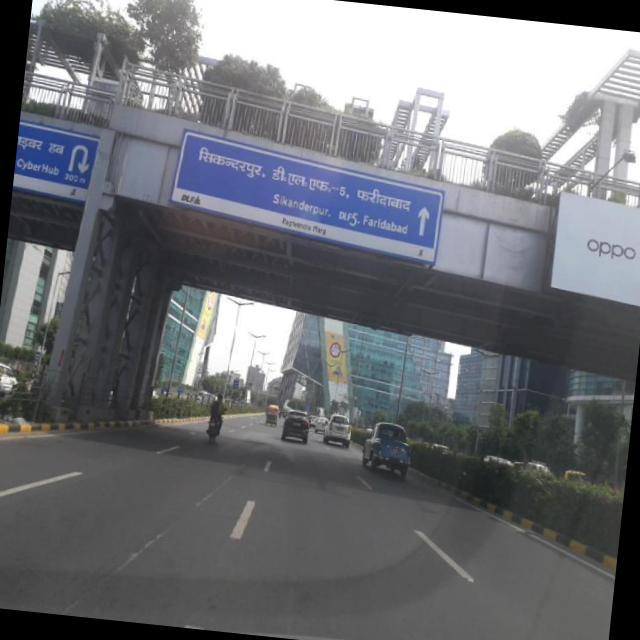pothole: (70, 516, 168, 614), (188, 458, 240, 512)
